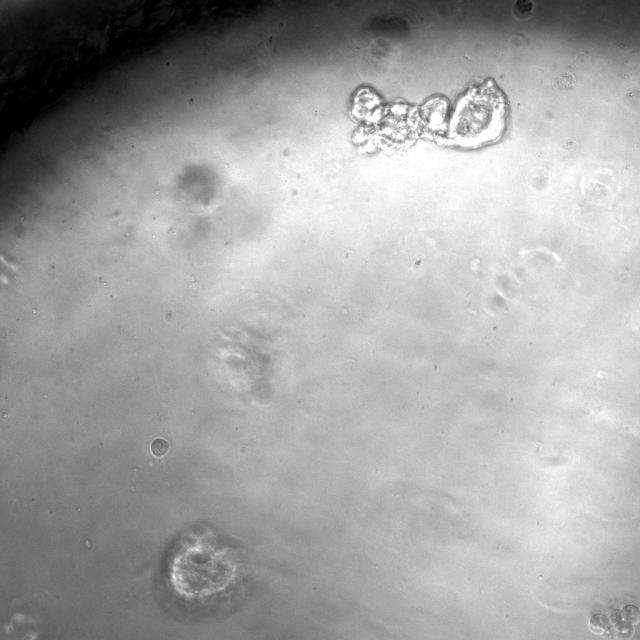organoid: (348, 78, 507, 154), (154, 520, 252, 621), (588, 604, 639, 639), (149, 436, 169, 458)
